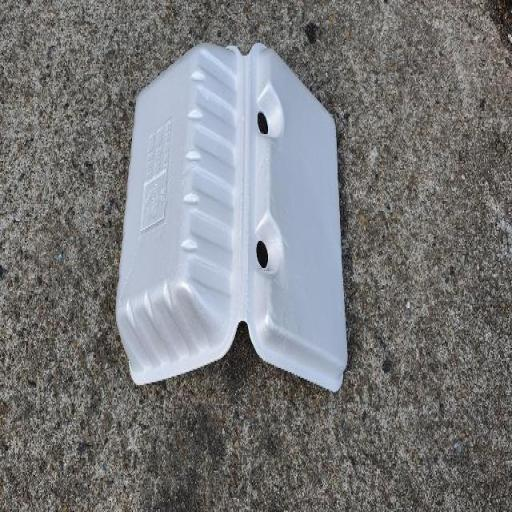styrofoam: (117, 44, 347, 389)
